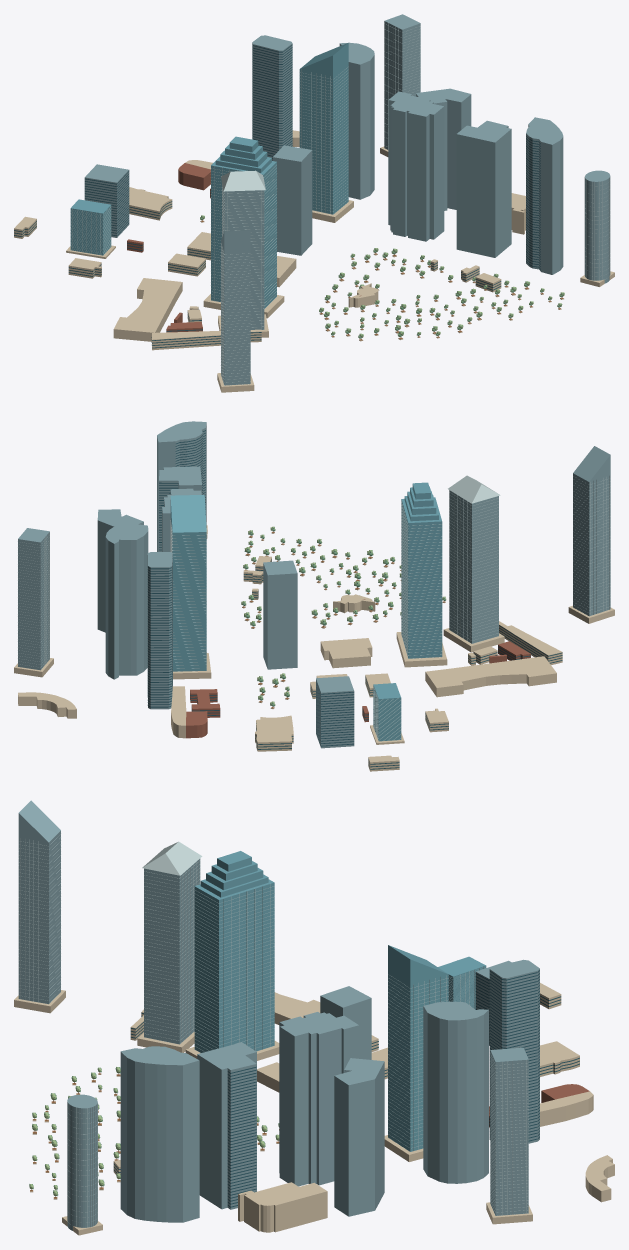
3 views of the same model, one above another, from view 1: azimuth 30°, elevation 25°; view 2: azimuth 150°, elevation 25°; view 3: azimuth 270°, elevation 25° (orthographic). The views are drawn at different scales.
Visible parts, largest first — view 1: one-lujiazui.001, osm-relation-12981307, osm-relation-12981302.001, bank-communications-pudong.001, ifc-north.001, osm-way-164971463, bank-china-pudong.001, osm-relation-12981309.001, osm-way-164903482, osm-relation-12981303.001, agricultural-bank.001, china-merchants-tower.001 (+13 smaller); view 2: bank-china-pudong.001, bank-communications-pudong.001, one-lujiazui.001, ifc-north.001, agricultural-bank.001, osm-way-164971463, osm-relation-12981309, osm-way-164903482, osm-way-520990201, osm-relation-12981309.001, osm-way-164905211, foxconn-building.001 (+14 smaller); view 3: bank-communications-pudong.001, osm-relation-12981303.001, bank-china-pudong.001, ifc-north.001, osm-relation-12981309, one-lujiazui.001, agricultural-bank.001, osm-relation-12981308.001, osm-relation-12981307, osm-way-164971463, osm-relation-12981302.001, osm-relation-12981302 (+13 smaller).
Part boxes in pixels (x1=…): one-lujiazui.001: x1=299, y1=42, x2=353, y2=222; osm-relation-12981307: x1=391, y1=101, x2=444, y2=241; osm-relation-12981302.001: x1=456, y1=125, x2=511, y2=257; bank-communications-pudong.001: x1=203, y1=136, x2=284, y2=318; ifc-north.001: x1=217, y1=230, x2=254, y2=392; osm-way-164971463: x1=252, y1=35, x2=292, y2=160; bank-china-pudong.001: x1=218, y1=170, x2=268, y2=337; osm-relation-12981309.001: x1=348, y1=51, x2=374, y2=199; osm-way-164903482: x1=273, y1=145, x2=312, y2=255; osm-relation-12981303.001: x1=529, y1=117, x2=563, y2=274; agricultural-bank.001: x1=380, y1=14, x2=420, y2=156; china-merchants-tower.001: x1=580, y1=170, x2=614, y2=286; bank-china-pudong.001: x1=443, y1=475, x2=504, y2=652; bank-communications-pudong.001: x1=396, y1=482, x2=447, y2=667; one-lujiazui.001: x1=170, y1=495, x2=211, y2=679; ifc-north.001: x1=568, y1=446, x2=614, y2=623; agricultural-bank.001: x1=14, y1=528, x2=53, y2=677; osm-way-164971463: x1=147, y1=552, x2=172, y2=709; osm-relation-12981309: x1=105, y1=525, x2=130, y2=679; osm-way-164903482: x1=263, y1=560, x2=297, y2=669; osm-way-520990201: x1=425, y1=656, x2=556, y2=697; osm-relation-12981309.001: x1=120, y1=524, x2=148, y2=675; osm-way-164905211: x1=316, y1=676, x2=354, y2=748; foxconn-building.001: x1=370, y1=683, x2=404, y2=744; bank-communications-pudong.001: x1=185, y1=851, x2=279, y2=1060; osm-relation-12981303.001: x1=120, y1=1048, x2=199, y2=1222; bank-china-pudong.001: x1=137, y1=841, x2=202, y2=1052; ifc-north.001: x1=14, y1=800, x2=65, y2=1013; osm-relation-12981309: x1=439, y1=1005, x2=488, y2=1183; one-lujiazui.001: x1=384, y1=945, x2=448, y2=1161; agricultural-bank.001: x1=486, y1=1047, x2=532, y2=1224; osm-relation-12981308.001: x1=334, y1=1070, x2=378, y2=1216; osm-relation-12981307: x1=279, y1=1012, x2=325, y2=1186; osm-way-164971463: x1=489, y1=959, x2=539, y2=1143; osm-relation-12981302.001: x1=197, y1=1042, x2=256, y2=1209; osm-relation-12981302: x1=216, y1=1052, x2=256, y2=1209.
Bounding box in the file's own units: 748 × 269 × 733.
